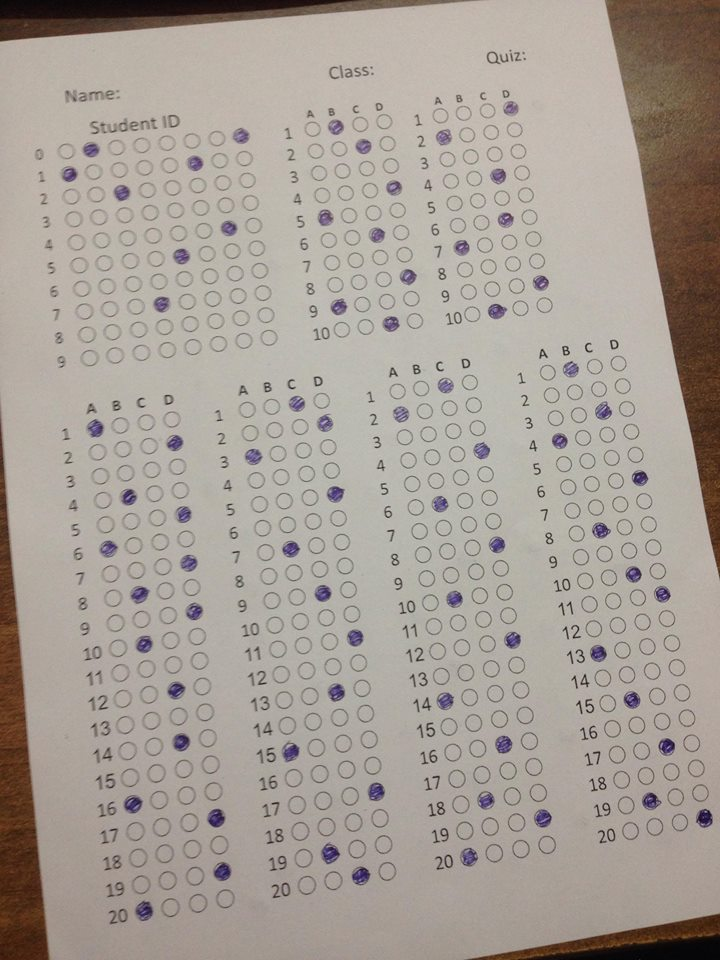not-c: (172, 758, 195, 781), (115, 741, 140, 762), (373, 834, 395, 857), (537, 834, 559, 856), (187, 626, 210, 647), (201, 753, 222, 776), (158, 896, 181, 917), (289, 819, 310, 842), (138, 684, 160, 705), (120, 766, 141, 788), (303, 711, 324, 733), (313, 790, 334, 812), (480, 816, 501, 838), (217, 887, 237, 910), (332, 734, 355, 754), (377, 860, 397, 883), (295, 846, 314, 870), (110, 662, 131, 683), (197, 728, 218, 749), (329, 706, 350, 727), (297, 874, 318, 895), (501, 786, 522, 807), (111, 689, 133, 709), (114, 715, 136, 735), (195, 703, 217, 723), (351, 679, 373, 699), (316, 608, 339, 627), (507, 811, 526, 834), (155, 842, 173, 866), (192, 676, 213, 696), (170, 707, 190, 728), (146, 764, 167, 784), (205, 782, 225, 803), (182, 839, 202, 860), (343, 604, 363, 625), (283, 767, 304, 787), (337, 760, 357, 781), (341, 787, 362, 807), (370, 807, 390, 828), (323, 871, 344, 891), (469, 585, 490, 605), (489, 709, 510, 729), (473, 765, 493, 786), (484, 843, 505, 863), (598, 693, 618, 714), (143, 484, 165, 503), (144, 737, 163, 759), (130, 848, 149, 870), (327, 510, 349, 529), (257, 567, 279, 586), (277, 716, 299, 735), (344, 812, 363, 834), (349, 838, 368, 860), (446, 768, 468, 787), (270, 666, 293, 684), (235, 331, 255, 351), (177, 529, 197, 549), (158, 871, 178, 891), (189, 893, 209, 913), (261, 591, 281, 611), (317, 817, 337, 837), (463, 713, 483, 733), (645, 817, 665, 837), (154, 317, 175, 336), (121, 513, 142, 532), (155, 582, 176, 601), (210, 835, 229, 856), (337, 556, 356, 577), (267, 639, 288, 658), (309, 764, 330, 783), (478, 633, 497, 654), (506, 656, 527, 675), (511, 681, 532, 700), (525, 757, 544, 778), (608, 744, 627, 765), (322, 659, 344, 677), (195, 222, 214, 242), (183, 338, 203, 357), (137, 413, 157, 432), (139, 437, 159, 456), (103, 589, 123, 608), (142, 711, 162, 730), (149, 790, 169, 809), (153, 817, 172, 837), (132, 874, 151, 894), (266, 420, 285, 440), (246, 469, 265, 489), (276, 492, 295, 512), (311, 560, 331, 579), (286, 587, 305, 607), (350, 653, 369, 673), (300, 686, 320, 705), (360, 730, 380, 749), (378, 135, 398, 154), (373, 271, 393, 290), (475, 609, 494, 629), (500, 606, 519, 626), (431, 666, 451, 685), (455, 664, 475, 683), (481, 660, 501, 679), (461, 688, 480, 708), (469, 739, 488, 759), (518, 731, 538, 750), (451, 795, 471, 814), (529, 783, 548, 803), (505, 119, 524, 139), (538, 361, 557, 381), (585, 357, 605, 376), (593, 669, 613, 688), (678, 709, 698, 728), (633, 741, 652, 761), (692, 783, 711, 803), (55, 141, 76, 159), (165, 202, 186, 220), (103, 323, 124, 341), (94, 515, 115, 533), (100, 565, 121, 583), (105, 615, 126, 633), (108, 639, 129, 657), (163, 655, 184, 673), (187, 866, 205, 887), (261, 397, 282, 415), (327, 274, 345, 295), (514, 707, 535, 725), (443, 743, 464, 761), (306, 538, 328, 555), (401, 291, 423, 308), (106, 345, 125, 364), (112, 415, 131, 434), (164, 409, 183, 428), (183, 579, 202, 598), (162, 631, 181, 650), (190, 652, 209, 671), (297, 662, 316, 681), (357, 703, 376, 722), (288, 796, 307, 815), (309, 164, 328, 183), (378, 293, 397, 312), (495, 583, 514, 602), (536, 295, 555, 314), (570, 405, 589, 424), (618, 399, 637, 418), (567, 523, 586, 542), (639, 514, 658, 533), (658, 610, 677, 629), (653, 711, 672, 730), (682, 734, 701, 753), (87, 183, 105, 203), (146, 250, 166, 268), (181, 315, 201, 333), (257, 307, 277, 325), (128, 560, 146, 580), (131, 609, 151, 627), (159, 607, 179, 625), (126, 821, 144, 841), (322, 462, 342, 480), (303, 513, 323, 531), (290, 613, 310, 631), (293, 637, 313, 655), (382, 157, 402, 175), (361, 183, 381, 201), (413, 545, 433, 563), (417, 570, 437, 588), (490, 559, 510, 577), (497, 762, 517, 780), (513, 839, 531, 859), (627, 717, 647, 735), (687, 760, 705, 780), (616, 795, 634, 815), (115, 207, 136, 224), (147, 510, 168, 527), (293, 442, 314, 459), (248, 495, 269, 512), (252, 520, 273, 537), (484, 685, 505, 702), (672, 812, 689, 833), (87, 445, 109, 461), (158, 133, 177, 151), (169, 225, 188, 243), (248, 239, 267, 257), (124, 275, 143, 293), (210, 335, 229, 353), (137, 659, 156, 677), (178, 786, 196, 805), (313, 390, 331, 409), (272, 468, 291, 486), (299, 465, 317, 484), (256, 544, 275, 562), (285, 563, 303, 582), (339, 581, 357, 600), (308, 738, 326, 757), (352, 116, 370, 135), (376, 112, 395, 130), (331, 139, 350, 157), (370, 249, 389, 267), (350, 271, 368, 290), (420, 425, 438, 444), (402, 475, 420, 494), (453, 468, 471, 487), (476, 465, 495, 483), (410, 522, 429, 540), (435, 520, 454, 538), (485, 511, 503, 530), (464, 539, 483, 557), (441, 566, 460, 584), (543, 385, 561, 404), (623, 423, 641, 442), (610, 496, 629, 514), (621, 541, 639, 560), (575, 572, 594, 590), (669, 659, 687, 678), (649, 688, 667, 707), (603, 719, 621, 738), (612, 771, 631, 789), (667, 788, 686, 806), (621, 822, 640, 840), (455, 104, 474, 122), (163, 179, 183, 196), (223, 242, 243, 259), (81, 350, 101, 367), (132, 344, 152, 361), (261, 328, 278, 348), (142, 462, 162, 479), (319, 440, 339, 457), (405, 313, 425, 330), (411, 380, 431, 397), (483, 280, 503, 297), (634, 493, 654, 510), (71, 281, 92, 297), (236, 150, 254, 168), (61, 187, 79, 205), (233, 309, 251, 327), (114, 440, 132, 458), (152, 533, 170, 551), (279, 516, 297, 534), (321, 633, 339, 651), (275, 691, 293, 709), (314, 187, 332, 205), (389, 202, 407, 220), (319, 232, 337, 250), (445, 422, 463, 440), (400, 451, 418, 469), (441, 717, 459, 735), (482, 123, 500, 141), (463, 148, 481, 166), (514, 164, 532, 182), (507, 277, 525, 295), (599, 426, 617, 444), (603, 449, 621, 467), (607, 472, 625, 490), (581, 595, 599, 613), (613, 641, 631, 659), (637, 767, 655, 785), (108, 140, 127, 157), (211, 152, 230, 169), (192, 200, 211, 217), (70, 257, 89, 274), (95, 256, 114, 273), (122, 253, 141, 270), (199, 244, 216, 263), (150, 272, 167, 291), (228, 266, 247, 283), (252, 261, 269, 280), (75, 305, 94, 322), (127, 299, 146, 316), (230, 286, 247, 305), (131, 321, 150, 338), (159, 343, 178, 360), (92, 468, 111, 485), (117, 465, 136, 482), (171, 481, 190, 498), (155, 557, 172, 576), (238, 400, 255, 419), (333, 534, 352, 551), (364, 756, 381, 775), (336, 185, 355, 202), (341, 206, 358, 225), (391, 225, 410, 242), (396, 246, 413, 265), (358, 318, 377, 335), (417, 400, 434, 419), (469, 419, 488, 436), (426, 472, 445, 489), (461, 515, 478, 534), (425, 619, 444, 636), (509, 143, 528, 160), (529, 251, 546, 270), (547, 410, 566, 427), (626, 446, 645, 463), (563, 502, 582, 519), (588, 498, 605, 517), (648, 563, 667, 580), (605, 592, 622, 611), (630, 588, 647, 607), (133, 138, 153, 154), (183, 133, 203, 149), (141, 205, 161, 221), (78, 327, 98, 343), (423, 592, 439, 612), (90, 209, 108, 226), (93, 232, 111, 249), (175, 271, 193, 288), (207, 312, 225, 329), (169, 460, 187, 477), (96, 492, 114, 509), (303, 490, 320, 508), (266, 617, 284, 634), (335, 163, 353, 180), (358, 160, 376, 177), (365, 205, 383, 222), (323, 255, 341, 272), (389, 381, 406, 399), (461, 374, 479, 391), (465, 397, 483, 414), (449, 446, 466, 464), (439, 544, 457, 561), (449, 614, 467, 631), (429, 642, 446, 660), (454, 638, 471, 656), (455, 821, 472, 839), (478, 102, 496, 119), (480, 258, 498, 275), (504, 257, 522, 274), (575, 430, 593, 447), (560, 478, 577, 496), (601, 569, 619, 586), (585, 619, 603, 636), (633, 613, 651, 630), (644, 663, 661, 681), (663, 763, 680, 781), (188, 178, 207, 194), (119, 231, 138, 247), (182, 813, 198, 832), (332, 321, 351, 337), (424, 450, 443, 466), (456, 491, 475, 507), (438, 151, 457, 167), (441, 173, 460, 189), (469, 193, 488, 209), (449, 218, 468, 234), (511, 300, 530, 316), (595, 546, 614, 562), (608, 617, 627, 633), (619, 665, 635, 684), (238, 174, 258, 189), (64, 211, 84, 226), (455, 262, 475, 277), (145, 228, 162, 245), (254, 286, 271, 303), (270, 446, 287, 463), (347, 251, 364, 268), (355, 296, 372, 313), (482, 490, 499, 507), (525, 230, 542, 247), (611, 356, 628, 373), (617, 519, 634, 536), (573, 548, 590, 565), (208, 130, 224, 148), (111, 162, 129, 178), (161, 157, 179, 173), (139, 183, 157, 199), (217, 198, 235, 214), (245, 218, 263, 234), (180, 294, 196, 312), (441, 401, 459, 417), (433, 108, 451, 124), (459, 284, 477, 300), (567, 383, 583, 401), (583, 477, 601, 493), (644, 539, 662, 555), (639, 638, 655, 656), (664, 635, 680, 653), (675, 683, 691, 701), (67, 235, 86, 250), (242, 425, 261, 440), (137, 160, 154, 176), (241, 196, 258, 212), (99, 277, 115, 294), (101, 301, 117, 318), (205, 291, 222, 307), (292, 418, 309, 434), (306, 122, 322, 139), (407, 500, 424, 516), (465, 171, 482, 187), (477, 237, 494, 253), (464, 305, 480, 322), (592, 381, 609, 397), (556, 456, 573, 472), (579, 453, 596, 469), (493, 190, 511, 205), (517, 187, 535, 202), (214, 175, 230, 191), (127, 538, 143, 554), (308, 143, 324, 159), (396, 429, 412, 445), (467, 564, 483, 580), (474, 215, 490, 231), (501, 235, 517, 251), (85, 164, 102, 179), (345, 230, 360, 247), (485, 147, 502, 162), (447, 197, 464, 212), (615, 379, 633, 393), (459, 128, 475, 143), (202, 269, 219, 283), (520, 210, 537, 224)
taken-c: (213, 859, 236, 884), (657, 737, 680, 760), (119, 485, 141, 508), (316, 413, 339, 435), (132, 898, 153, 922), (207, 807, 229, 829), (165, 682, 189, 702), (351, 864, 371, 888), (312, 584, 335, 604), (280, 740, 303, 760), (327, 683, 348, 704), (593, 401, 614, 422), (629, 468, 652, 487), (367, 225, 387, 246), (365, 782, 386, 802), (321, 843, 342, 863), (435, 693, 456, 713), (533, 809, 553, 830), (459, 848, 479, 869), (625, 565, 645, 586), (589, 642, 610, 662), (694, 809, 715, 829), (494, 735, 513, 757), (623, 690, 642, 712), (641, 791, 663, 810), (532, 273, 552, 293), (86, 419, 106, 439), (99, 539, 119, 559), (179, 554, 199, 574), (185, 603, 205, 623), (123, 793, 143, 813), (175, 507, 196, 526), (172, 733, 191, 754), (326, 485, 347, 504), (472, 441, 493, 460), (652, 586, 674, 604), (503, 632, 526, 649), (233, 127, 253, 146), (113, 184, 133, 203), (487, 303, 507, 322), (477, 791, 496, 811), (592, 522, 612, 541), (171, 249, 192, 267), (329, 301, 350, 319), (281, 540, 302, 558), (430, 495, 451, 513), (382, 316, 401, 335), (497, 211, 516, 230), (188, 155, 206, 175), (137, 635, 155, 655), (433, 130, 455, 146), (60, 165, 79, 183), (357, 138, 376, 156), (400, 269, 418, 288), (452, 239, 470, 258), (167, 436, 186, 454), (550, 433, 569, 451), (563, 359, 580, 379), (222, 219, 240, 237), (503, 99, 521, 117), (490, 169, 509, 186), (289, 393, 306, 412), (245, 447, 264, 464), (129, 586, 149, 602), (151, 297, 172, 312), (328, 118, 345, 136), (447, 590, 464, 608), (347, 628, 363, 647), (391, 406, 410, 422), (489, 536, 506, 553), (385, 179, 403, 195), (84, 141, 101, 157), (317, 209, 333, 226), (438, 377, 454, 394)
